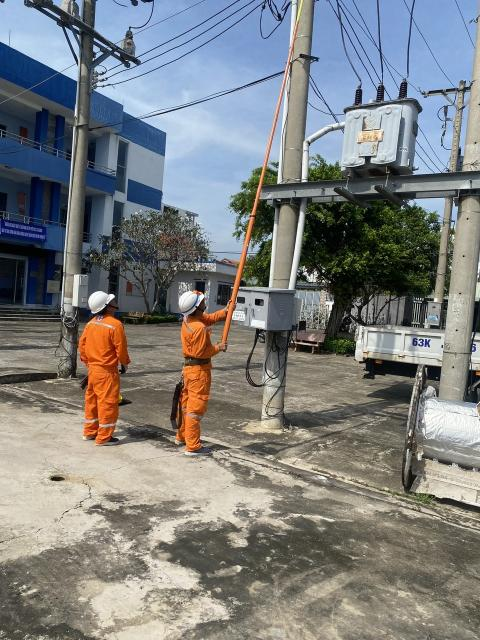gloves: (115, 365, 135, 379)
harness: (179, 351, 222, 369)
helmet: (178, 291, 208, 317), (88, 288, 117, 313)
shoes: (181, 444, 217, 459), (97, 433, 121, 448), (79, 430, 99, 442)
